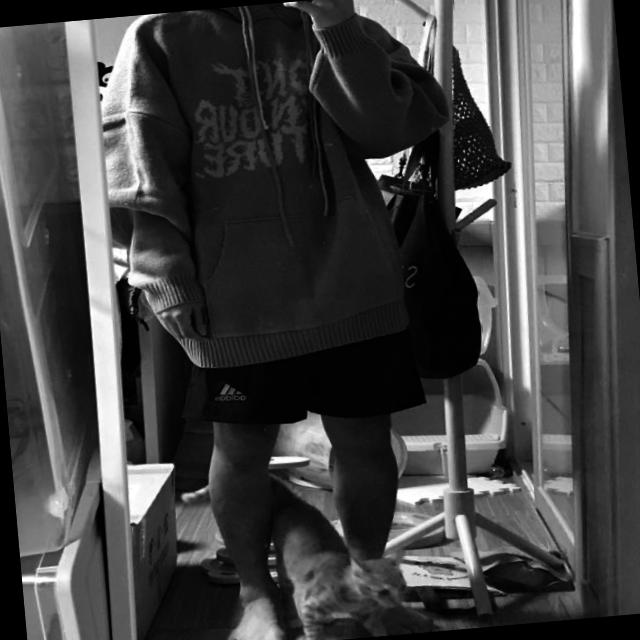hoodies: (95, 0, 466, 373)
shortsleeve: (198, 326, 427, 432)
